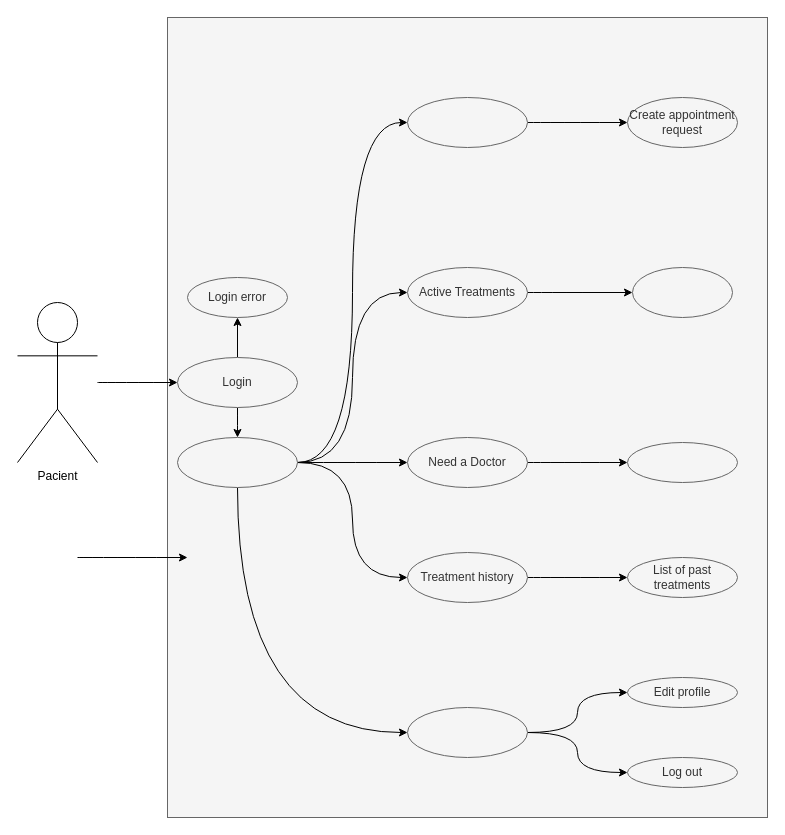
Some shapes in this 785 by 835 pixel diagram are drawn without their labels. Each missing label, with the centre of its shape:
Appointment: pixel 467 122
Chat, reminder and review: pixel 682 292
Create help request: pixel 682 462
Dashboard: pixel 237 462
Settings: pixel 467 732
